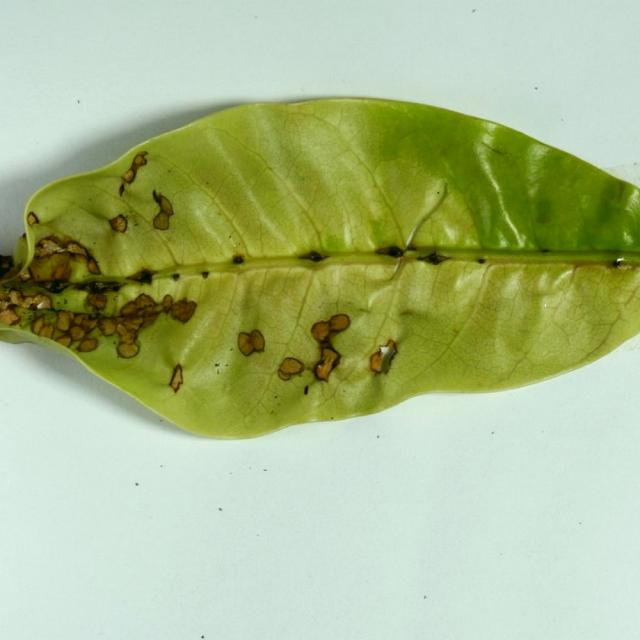Anthracnose: (100, 293, 193, 357), (26, 235, 98, 283), (310, 314, 353, 384), (33, 310, 102, 353), (0, 278, 53, 325), (150, 294, 196, 326), (112, 319, 146, 358), (119, 151, 149, 189), (119, 293, 160, 318), (370, 340, 398, 375), (152, 191, 173, 232), (237, 329, 266, 356), (87, 279, 128, 295), (35, 237, 69, 256), (277, 358, 305, 381), (417, 251, 451, 266), (0, 262, 23, 284), (169, 364, 184, 393), (66, 241, 91, 258), (128, 269, 158, 283), (310, 321, 330, 342), (86, 292, 108, 310), (77, 315, 99, 333), (328, 313, 350, 331), (4, 289, 26, 307), (120, 316, 143, 333), (108, 215, 128, 234), (97, 317, 118, 335), (0, 308, 20, 326), (374, 246, 404, 258), (298, 250, 326, 262), (120, 301, 139, 316), (611, 260, 635, 271), (132, 153, 147, 170), (140, 314, 157, 328), (71, 314, 88, 327), (54, 336, 72, 348), (121, 169, 135, 184), (26, 212, 39, 226), (278, 369, 293, 381), (0, 300, 12, 312), (19, 271, 32, 282), (232, 255, 245, 264), (172, 272, 181, 281), (119, 184, 125, 197), (201, 270, 210, 278), (304, 385, 309, 395)
Mango: (0, 96, 639, 442), (0, 97, 639, 442)
